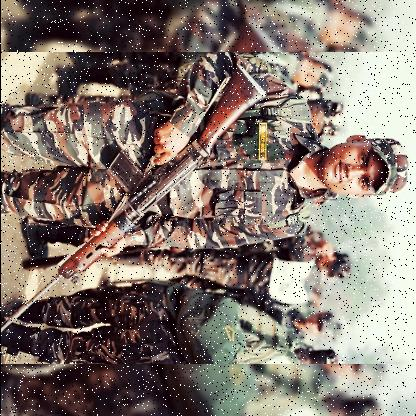rifle: (0, 62, 268, 332)
